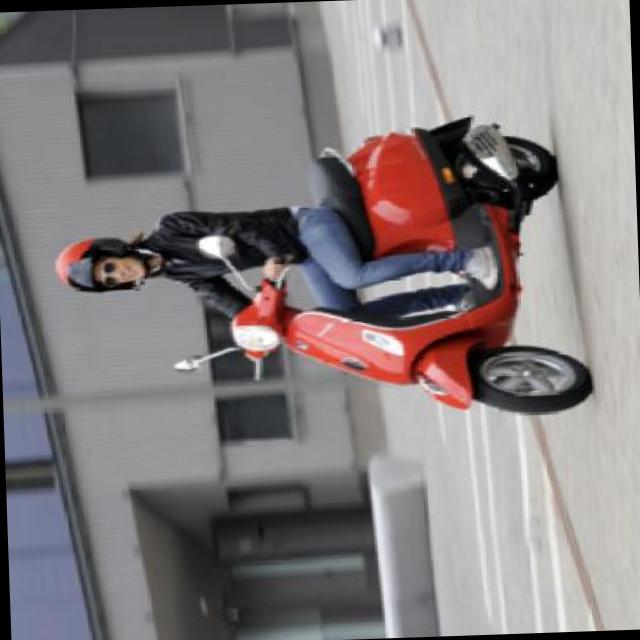With Helmet: (45, 230, 157, 298)
